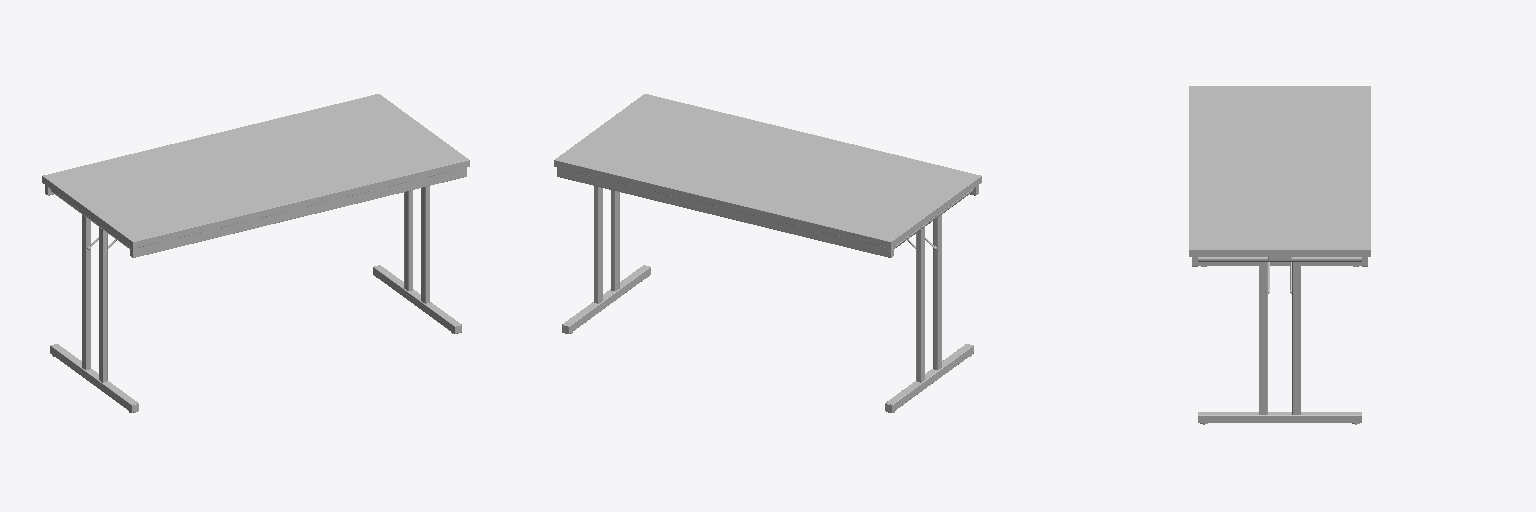
File: Folding_Table_7kcg.obj
3 renders of one model, left to right at view 1: azimuth 30°, elevation 25°; view 2: azimuth 150°, elevation 25°; view 3: azimuth 270°, elevation 25°, orthographic.
Parts seen in each view (by area): view 1: Folding_Table_7kcg_Cylinder.045; view 2: Folding_Table_7kcg_Cylinder.045; view 3: Folding_Table_7kcg_Cylinder.045.
Boxes of the visible parts, x1=… form: Folding_Table_7kcg_Cylinder.045: x1=42, y1=94, x2=469, y2=412; Folding_Table_7kcg_Cylinder.045: x1=554, y1=94, x2=981, y2=412; Folding_Table_7kcg_Cylinder.045: x1=1189, y1=86, x2=1370, y2=424.
Size of the model in its own units: 1.5 by 0.7501 by 0.7.